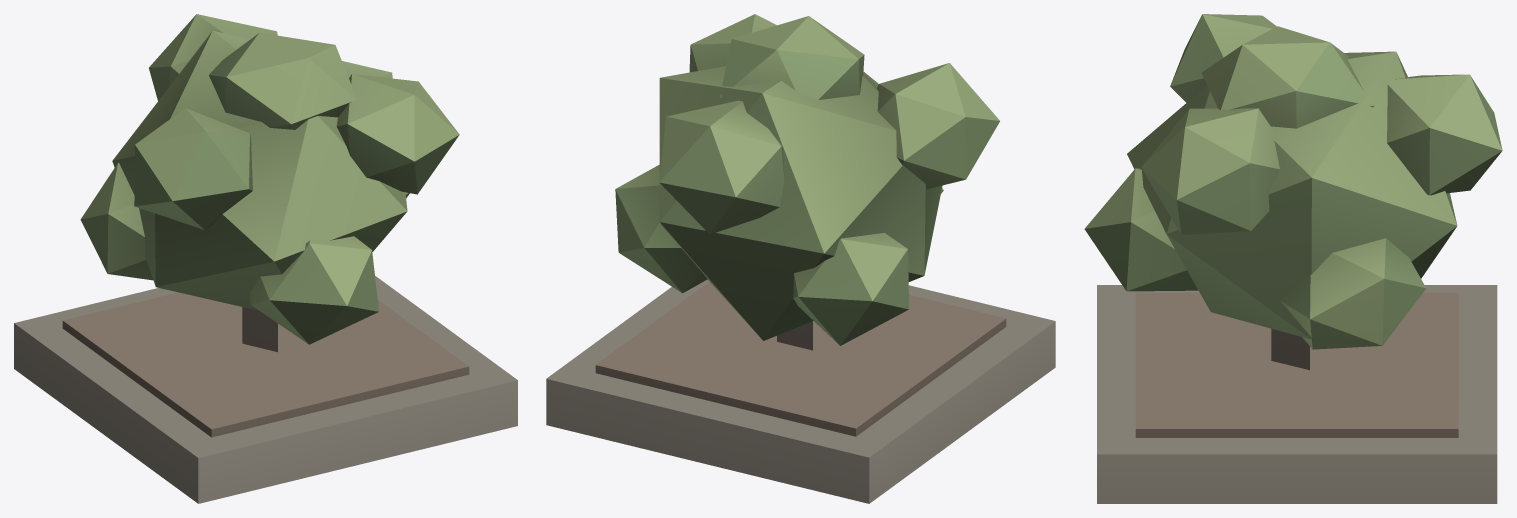
The model's file is shrub.lod1.glb.
3 renders of one model, left to right at view 1: azimuth 30°, elevation 25°; view 2: azimuth 150°, elevation 25°; view 3: azimuth 270°, elevation 25°, orthographic. The views are drawn at different scales.
Size of the model in its own units: 1.24 by 1.31 by 1.29.
